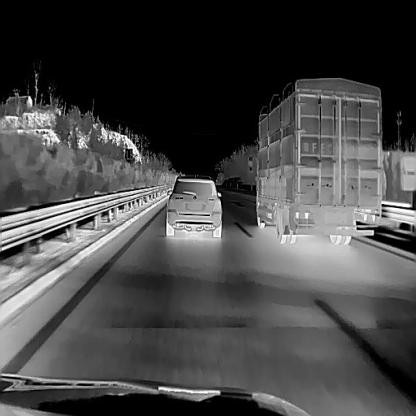car: (166, 172, 222, 236)
truck: (247, 77, 383, 245)
